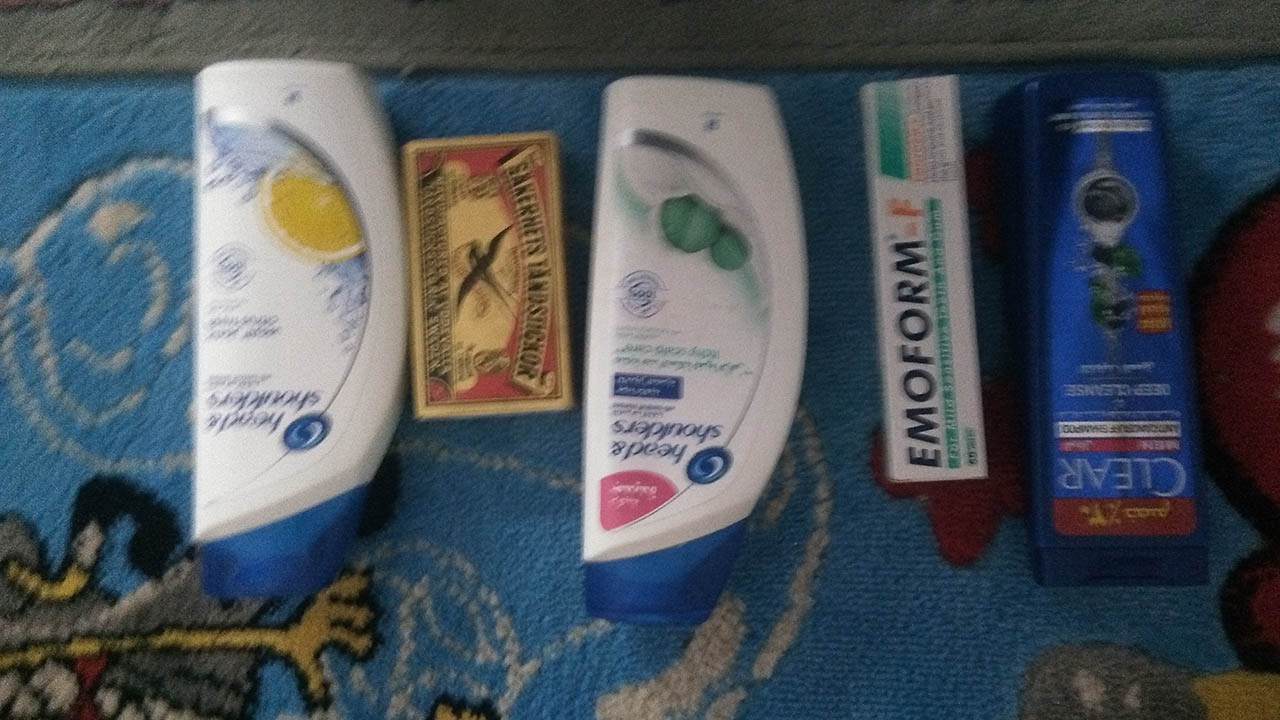Shampoo-Clear 4.7$: (1014, 66, 1217, 590)
Toothpaste-F 1.5$: (851, 63, 1004, 500)
match-sticks .90$: (396, 132, 584, 427)
shampoo-Lemon 3.5$: (177, 48, 403, 604)
shampoo-green 4.5$: (582, 61, 793, 640)
